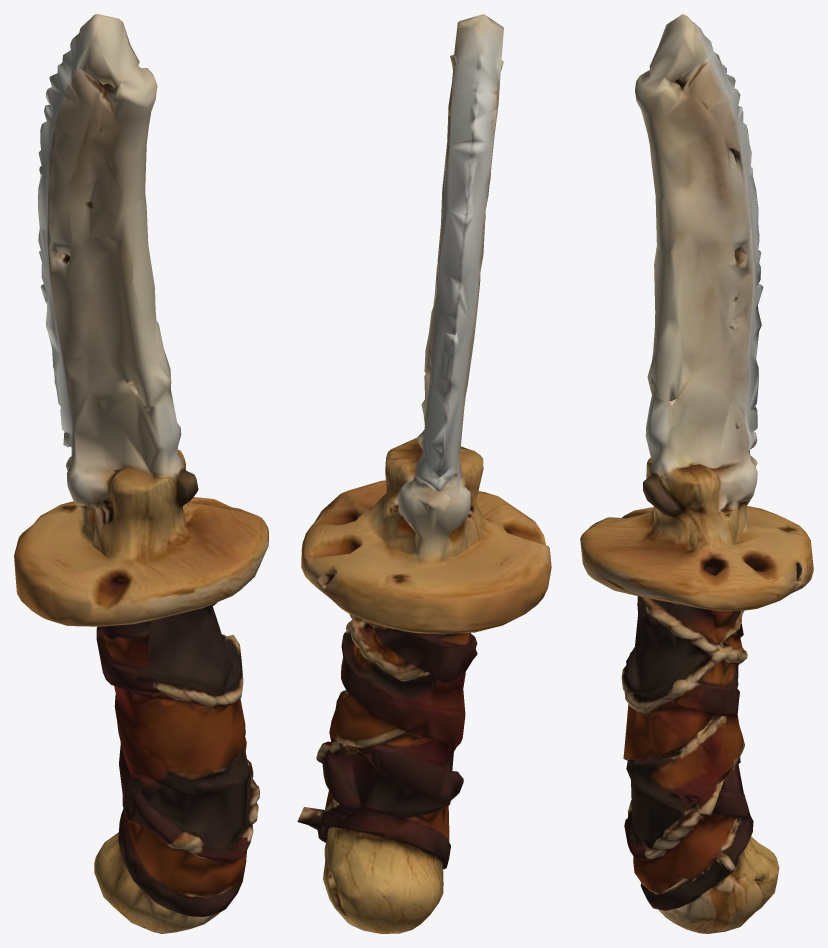
The model's file is cuchillo_hueso.glb.
The picture shows the model from 3 angles, left to right: view 1: azimuth 30°, elevation 25°; view 2: azimuth 150°, elevation 25°; view 3: azimuth 270°, elevation 25°; orthographic projection. The views are drawn at different scales.
Visible parts, largest first — view 1: tripo_node_2c499e13-2246-4a2d-851a-655334d5a267; view 2: tripo_node_2c499e13-2246-4a2d-851a-655334d5a267; view 3: tripo_node_2c499e13-2246-4a2d-851a-655334d5a267.
Part boxes in pixels (bbox=[...]): tripo_node_2c499e13-2246-4a2d-851a-655334d5a267: bbox=[14, 14, 268, 933]; tripo_node_2c499e13-2246-4a2d-851a-655334d5a267: bbox=[297, 14, 551, 933]; tripo_node_2c499e13-2246-4a2d-851a-655334d5a267: bbox=[580, 14, 813, 933].
Size of the model in its own units: 0.2496 by 0.9995 by 0.2435.
Materials: 1 (1 with a texture image).
